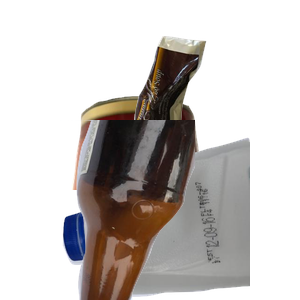glass: (60, 120, 300, 300)
metal: (69, 93, 265, 273)
plastic: (60, 135, 300, 300)
trash: (131, 34, 300, 177)
